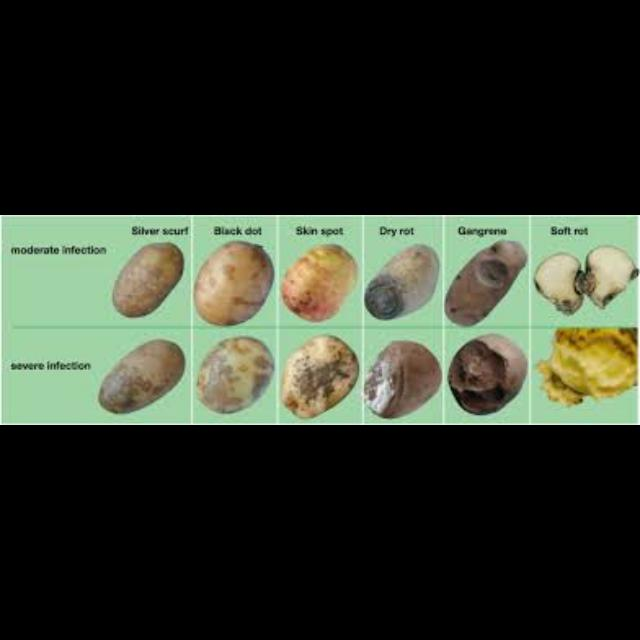Damaged potato: (445, 328, 527, 419)
Diseased-fungal potato: (86, 337, 192, 413), (362, 336, 446, 420), (444, 243, 526, 324), (194, 241, 272, 325), (194, 338, 278, 416), (280, 240, 356, 324), (280, 337, 354, 418), (364, 241, 438, 321), (110, 243, 184, 314)
